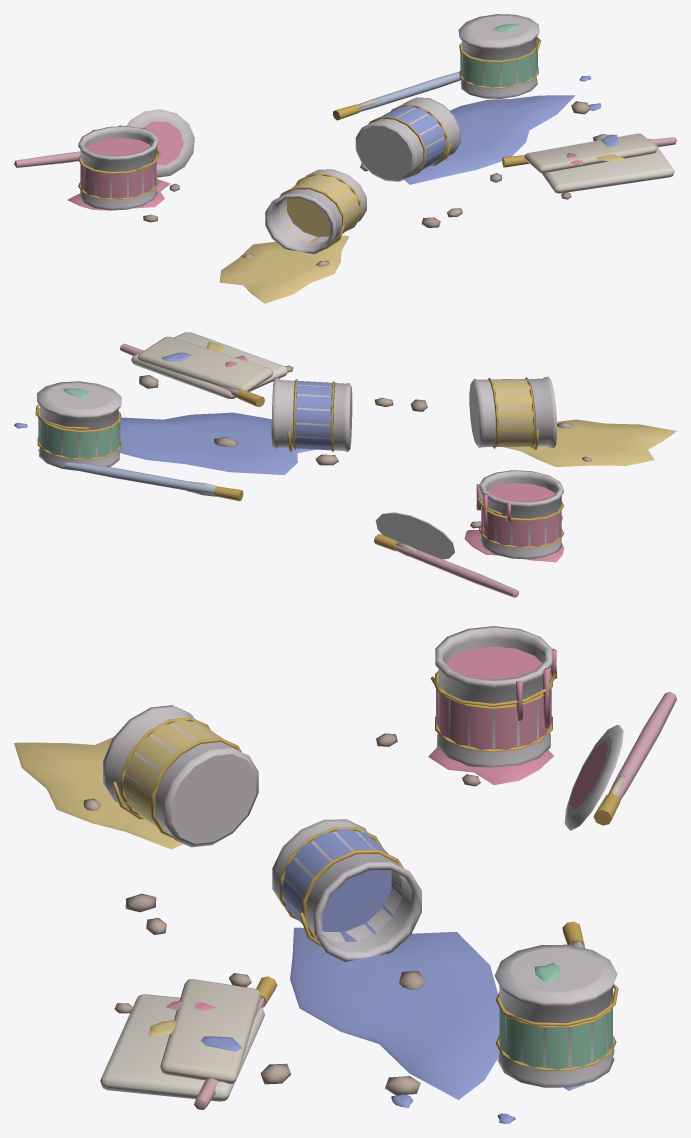
The model's file is paint_tins_spilled.glb.
3 views of the same model, one above another, from view 1: azimuth 30°, elevation 25°; view 2: azimuth 150°, elevation 25°; view 3: azimuth 270°, elevation 25° (orthographic). The views are drawn at different scales.
Visible parts, largest first — view 1: paint_tins_spilled; view 2: paint_tins_spilled; view 3: paint_tins_spilled.
Part boxes in pixels (bbox=[...]): paint_tins_spilled: bbox=[14, 14, 676, 303]; paint_tins_spilled: bbox=[14, 332, 676, 597]; paint_tins_spilled: bbox=[14, 626, 676, 1123].
Size of what is drawn, in the model's own units: 0.6 by 0.08 by 0.4.
